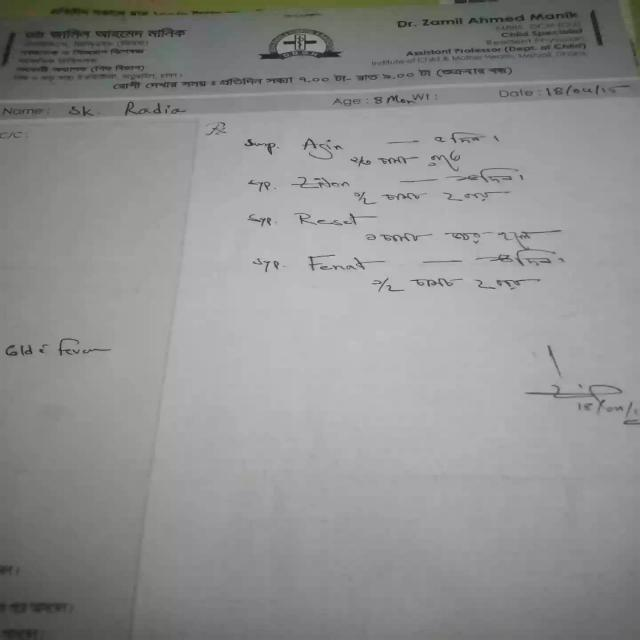medicine: (289, 205, 365, 236), (298, 249, 381, 277), (296, 132, 350, 165), (289, 172, 353, 193)
